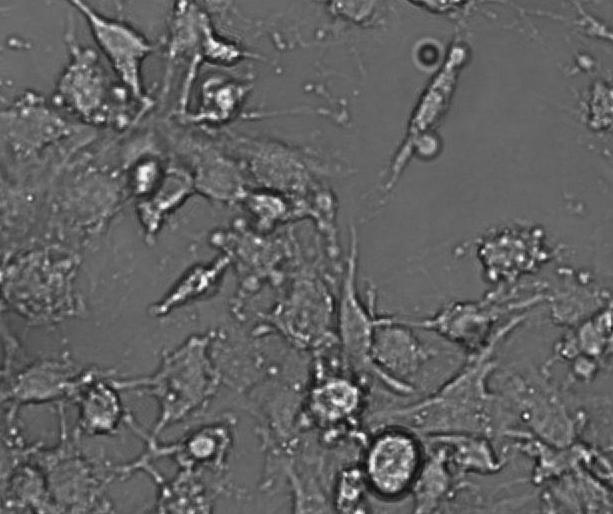Dead: (151, 251, 232, 313), (361, 424, 427, 500), (476, 227, 558, 284), (300, 368, 366, 428), (73, 378, 127, 436), (193, 20, 250, 66), (126, 154, 164, 200), (182, 430, 222, 462), (410, 37, 447, 71), (214, 85, 241, 122), (414, 130, 444, 161)
